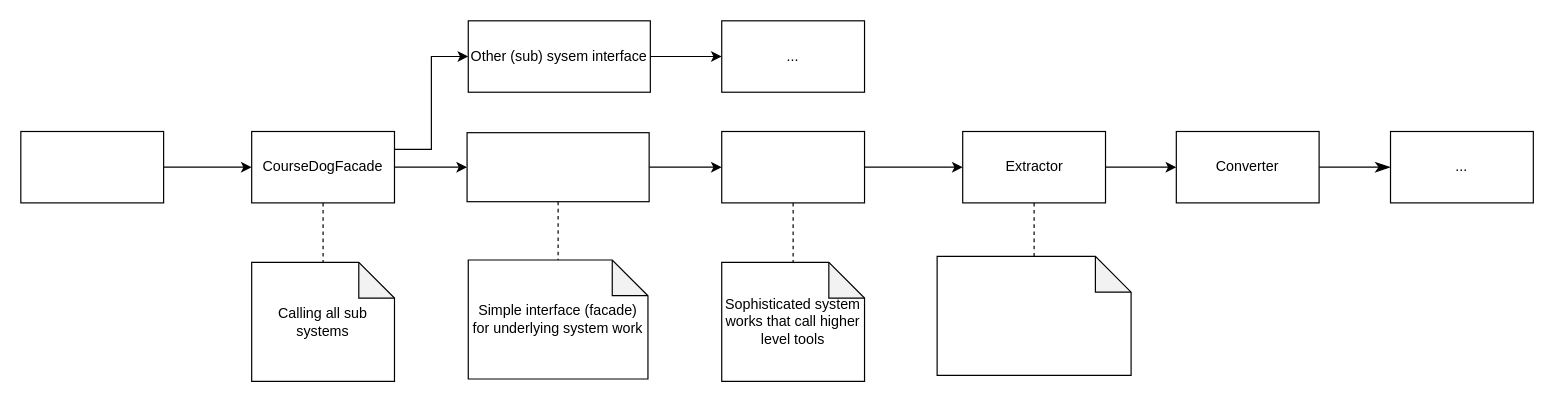
This 1554x402 diagram has some shape labels left out. The shapes that lost their labels are listed below. From the top down, each one's centre as x and y in pixels, then its label:
At [92,166]: "Client".
At [557,166]: "CourseSystemInterface".
At [793,166]: "CourseSystem".
At [1033,315]: "Converter with pre-processing, post-processing, input checker, output checker".
